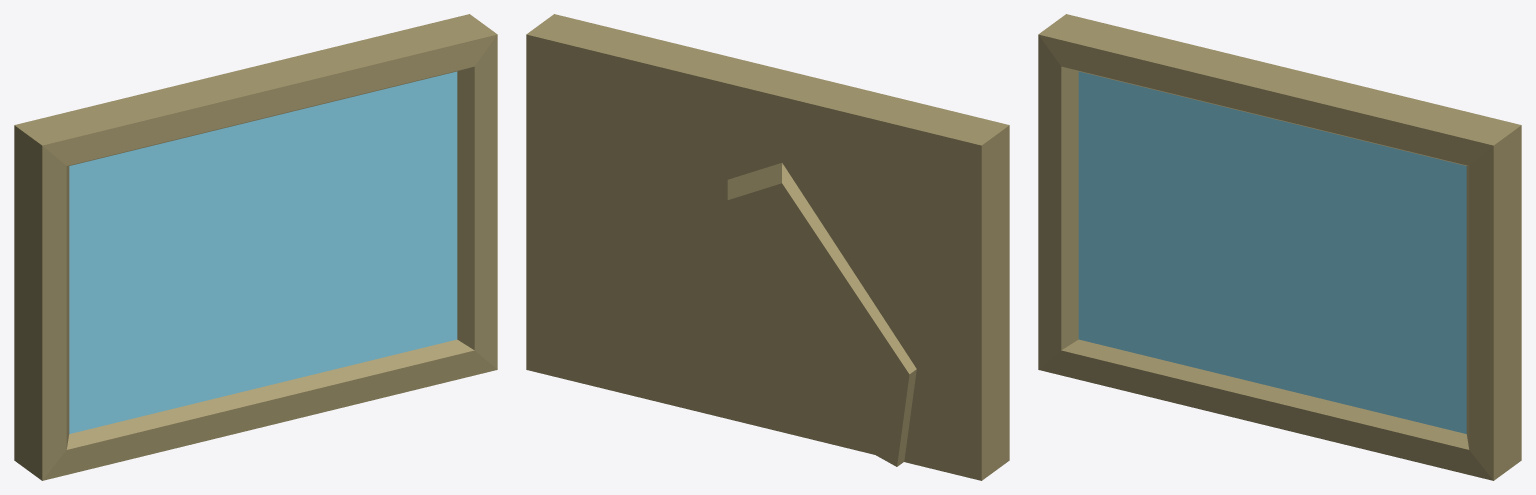
File: NST_PictureFrame.fbx
3 views of the same model, side by side, from view 1: azimuth 30°, elevation 25°; view 2: azimuth 150°, elevation 25°; view 3: azimuth 330°, elevation 25° (orthographic).
Visible parts, largest first — view 1: NST_Picture, NST_PictureFrame; view 2: NST_PictureFrame; view 3: NST_Picture, NST_PictureFrame.
Part boxes in pixels (x1=…): NST_Picture: x1=69, y1=71, x2=457, y2=433; NST_PictureFrame: x1=14, y1=14, x2=497, y2=480; NST_PictureFrame: x1=526, y1=14, x2=1009, y2=480; NST_Picture: x1=1078, y1=71, x2=1466, y2=433; NST_PictureFrame: x1=1038, y1=14, x2=1521, y2=480.
Bounding box in the file's own units: 27.84 × 19.59 × 3.86.
